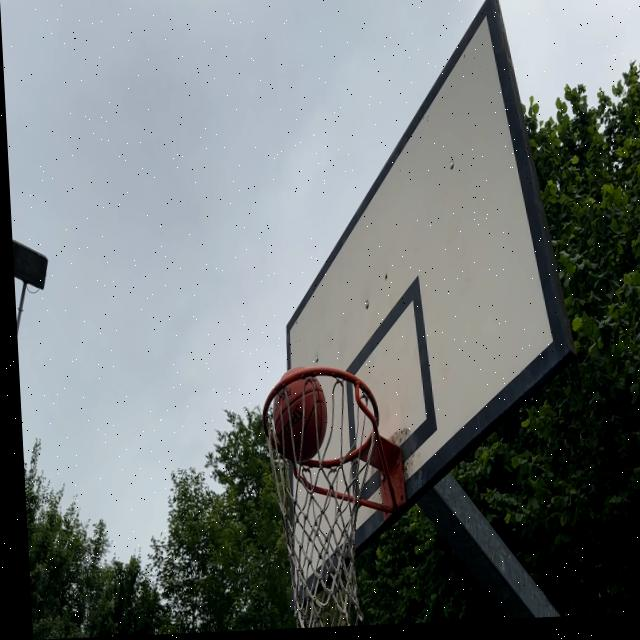rebound_hit: (270, 368, 330, 466)
